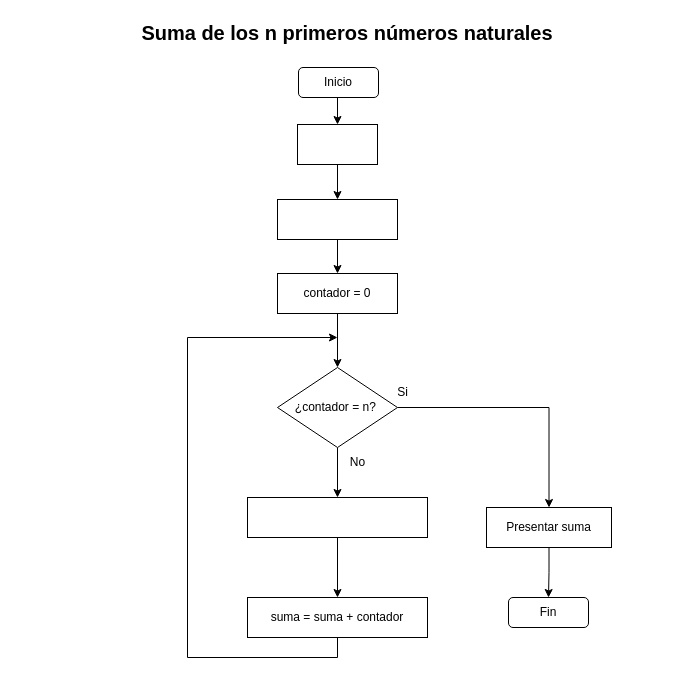
Some shapes in this 694 by 683 pixel diagram are drawn without their labels. Here are the shapes that lost their labels. From the top down, the box of each, then its label:
(296, 124, 378, 164): Leer n
(276, 198, 398, 240): suma = 0
(246, 496, 428, 538): Incrementar contador en 1
